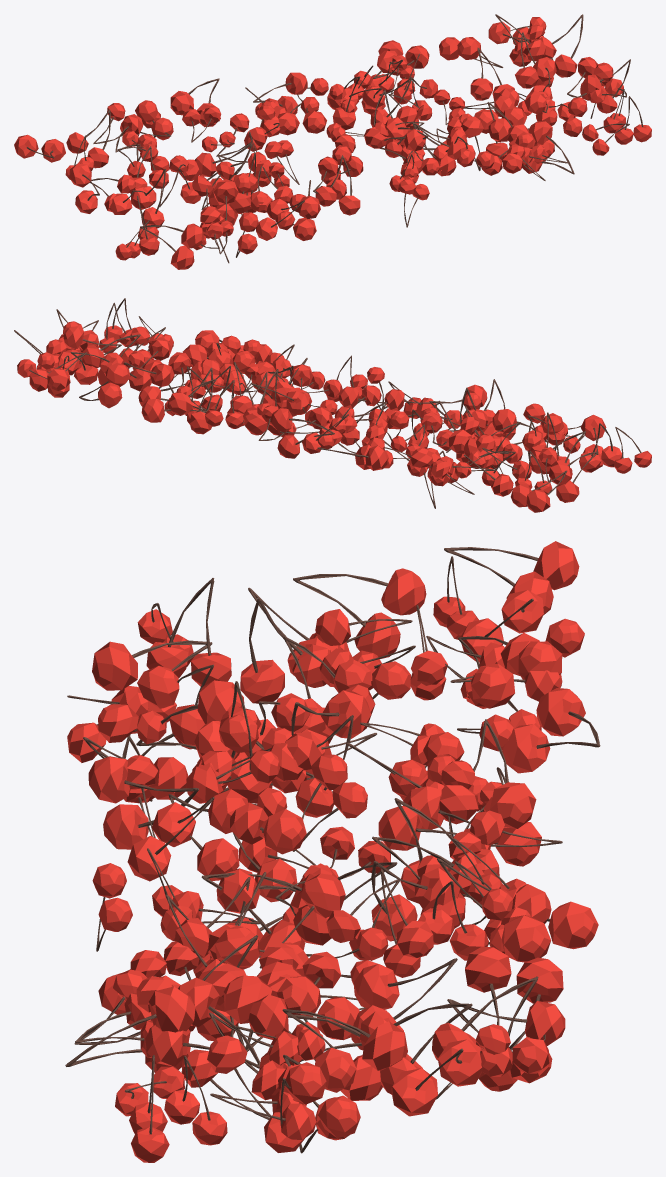
Rendered from cherry.fbx.
3 views of the same model, one above another, from view 1: azimuth 30°, elevation 25°; view 2: azimuth 150°, elevation 25°; view 3: azimuth 270°, elevation 25° (orthographic). The views are drawn at different scales.
Parts seen in each view (by area): view 1: cherry.005; view 2: cherry.005; view 3: cherry.005.
Boxes of the visible parts, x1,y1,x2,y2 form: cherry.005: (14, 14, 651, 269); cherry.005: (14, 298, 651, 512); cherry.005: (65, 541, 600, 1162).
Bounding box in the file's own units: 1285 × 206 × 544.
